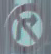Don't turn right: (3, 1, 47, 53)
